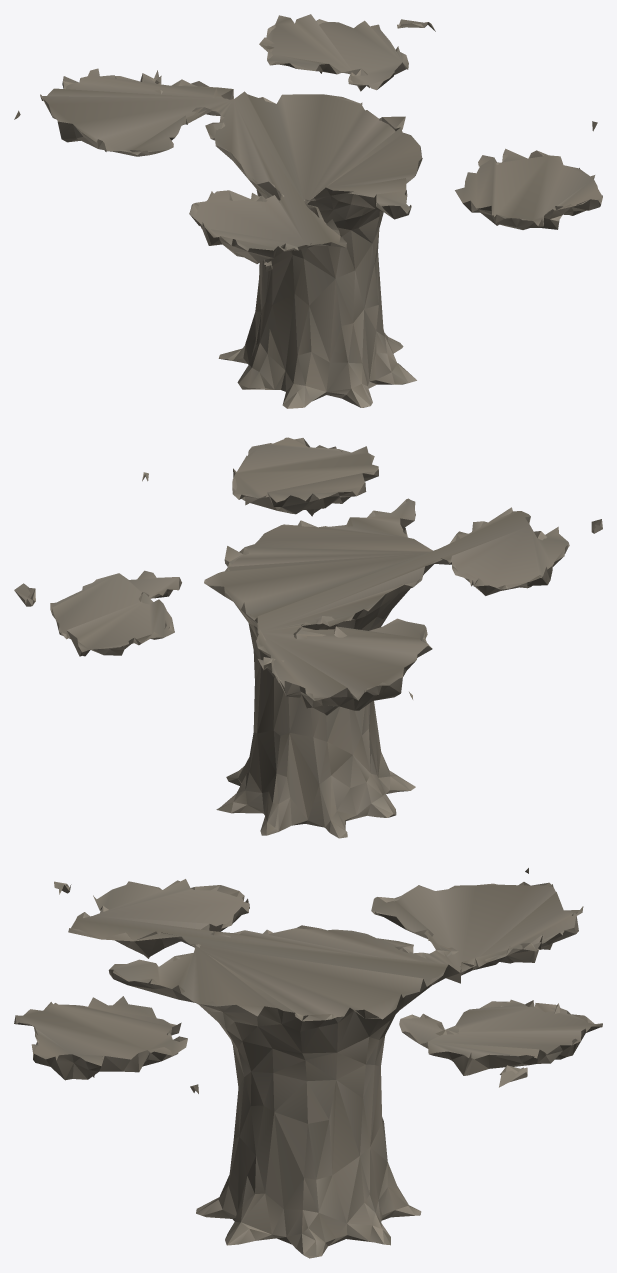
Rendered from ash_stump.glb.
The picture shows the model from 3 angles, top to bottom: view 1: azimuth 30°, elevation 25°; view 2: azimuth 150°, elevation 25°; view 3: azimuth 270°, elevation 25°; orthographic projection. The views are drawn at different scales.
Visible parts, largest first — view 1: Stump; view 2: Stump; view 3: Stump.
Boxes of the visible parts, x1,y1,x2,y2 form: Stump: (14, 14, 602, 408); Stump: (14, 437, 602, 838); Stump: (14, 868, 602, 1258).
Size of the model in its own units: 1.56 by 0.8246 by 1.76.
